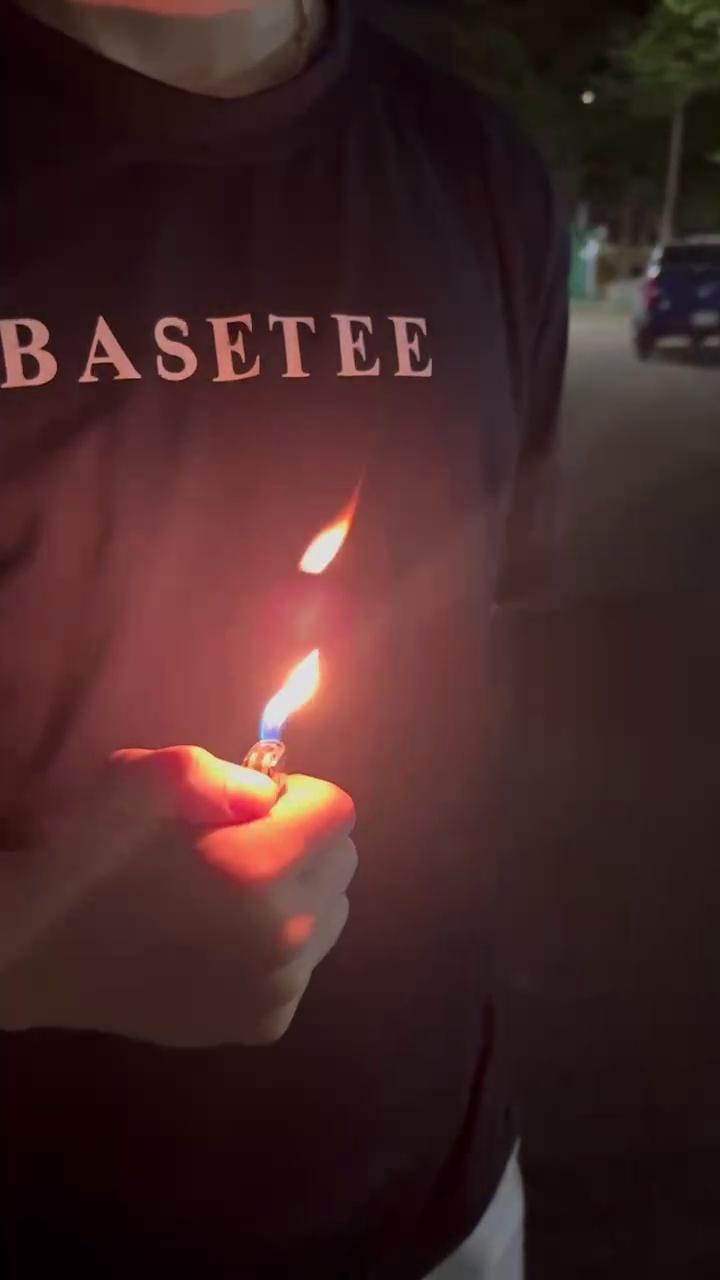Fire: (238, 625, 360, 780)
